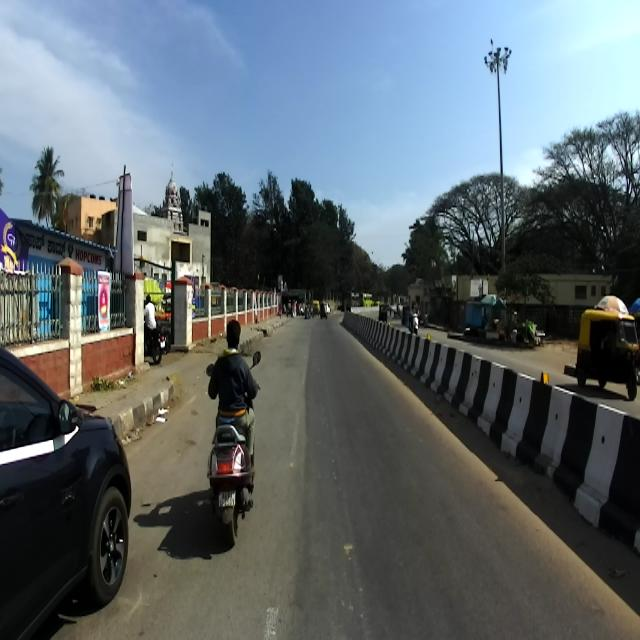car ahead at: (0, 340, 133, 640)
motorcycle ahead at: (207, 416, 258, 546)
